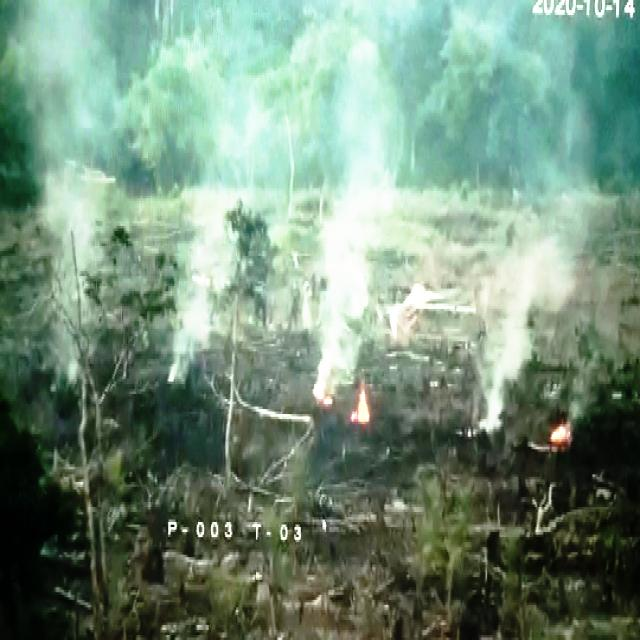asap: (282, 1, 437, 428), (456, 1, 601, 443), (6, 1, 122, 423), (163, 64, 263, 393), (577, 272, 634, 428)
